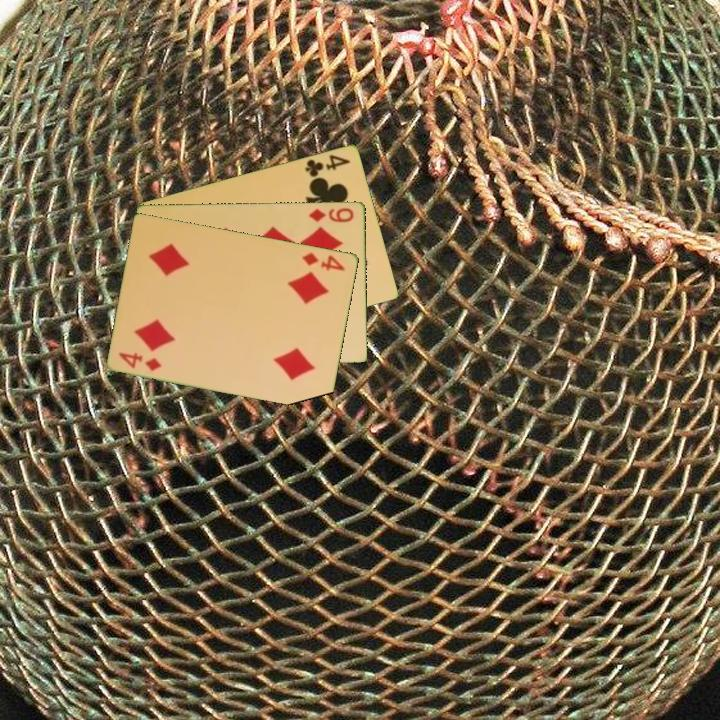4c: (302, 151, 353, 180)
4d: (115, 349, 165, 374), (299, 248, 348, 273)
9d: (306, 204, 357, 225)
